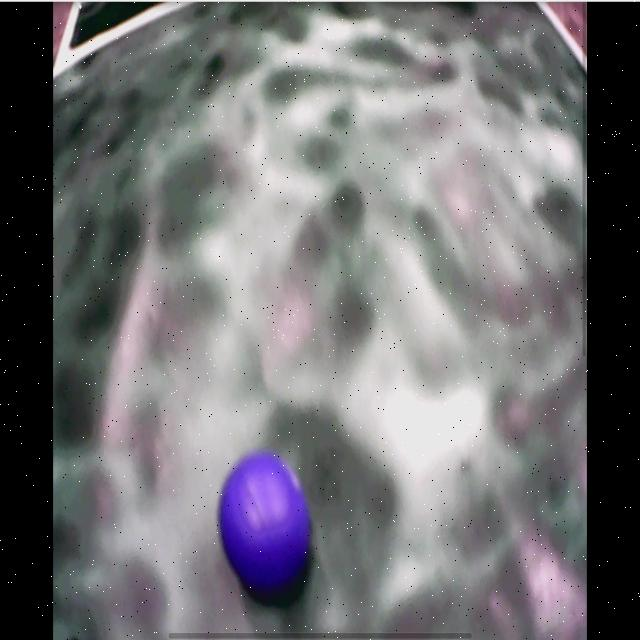ball: (220, 455, 311, 595)
